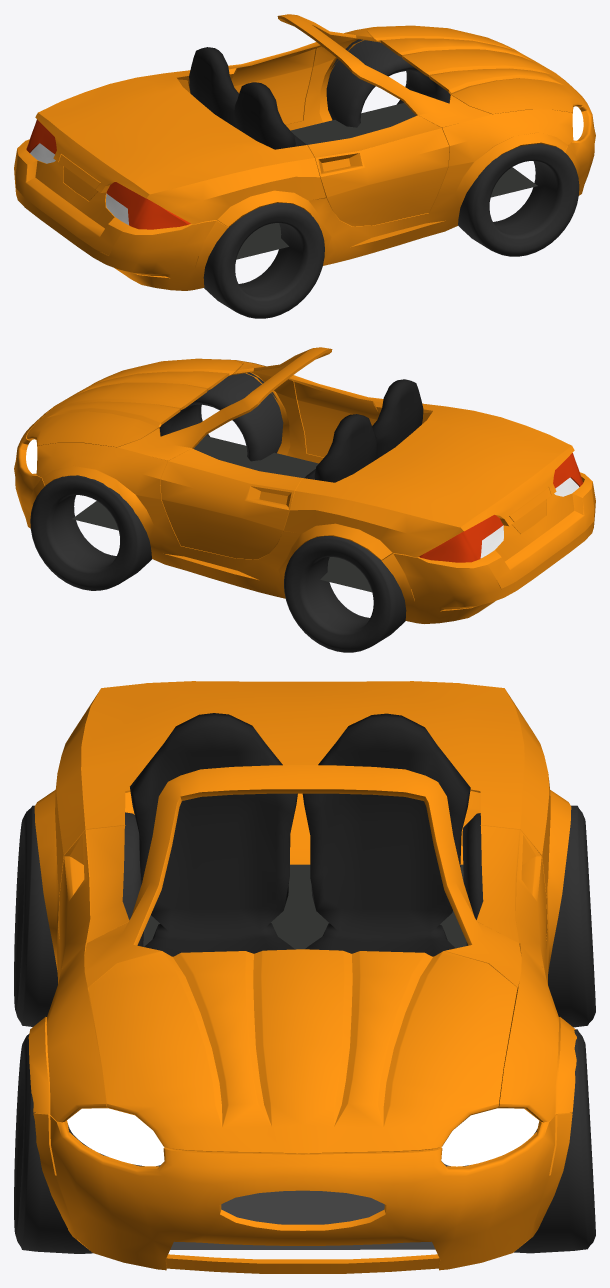
Rendered from Car.gltf.
The picture shows the model from 3 angles, top to bottom: view 1: azimuth 30°, elevation 25°; view 2: azimuth 150°, elevation 25°; view 3: azimuth 270°, elevation 25°; orthographic projection. The views are drawn at different scales.
Visible parts, largest first — view 1: CarExport, polyToSubd1.004, polyToSubd1.006, polyToSubd1.007, pPlane4.001, RGC_6:Backmesh.003, RGC_6:Backmesh.001, polySurface12.003, polySurface12.002; view 2: CarExport, polyToSubd1.005, polyToSubd1.007, polyToSubd1.006, pPlane4.001, RGC_6:Backmesh.001, RGC_6:Backmesh.003, polySurface12.002, polySurface12.003; view 3: CarExport, RGC_6:Backmesh.003, RGC_6:Backmesh.001, polyToSubd1.005, polyToSubd1.004, polyToSubd1.007, polyToSubd1.006, pPlane5.001, polySurface13.002, polySurface13.003, pPlane4.001.
Boxes of the visible parts, x1,y1,x2,y2 form: CarExport: (14,14,595,290); polyToSubd1.004: (203,203,324,318); polyToSubd1.006: (458,143,579,256); polyToSubd1.007: (326,39,450,127); pPlane4.001: (236,103,537,259); RGC_6:Backmesh.003: (234,82,295,149); RGC_6:Backmesh.001: (189,47,306,146); polySurface12.003: (106,182,190,229); polySurface12.002: (26,119,56,163); CarExport: (14,347,595,623); polyToSubd1.005: (284,536,406,652); polyToSubd1.007: (30,475,151,590); polyToSubd1.006: (159,372,283,461); pPlane4.001: (72,436,371,592); RGC_6:Backmesh.001: (314,414,376,482); RGC_6:Backmesh.003: (304,379,423,479); polySurface12.002: (419,515,503,562); polySurface12.003: (553,453,583,496); CarExport: (28,681,576,1273); RGC_6:Backmesh.003: (130,713,297,956); RGC_6:Backmesh.001: (302,713,470,956); polyToSubd1.005: (462,805,595,1027); polyToSubd1.004: (14,805,143,1026); polyToSubd1.007: (468,1029,595,1253); polyToSubd1.006: (14,1034,142,1253); pPlane5.001: (156,1161,467,1249); polySurface13.002: (441,1108,539,1166); polySurface13.003: (67,1108,164,1166); pPlane4.001: (143,864,466,1166).
Bounding box in the file's own units: 3.48 × 1.3 × 1.92.
